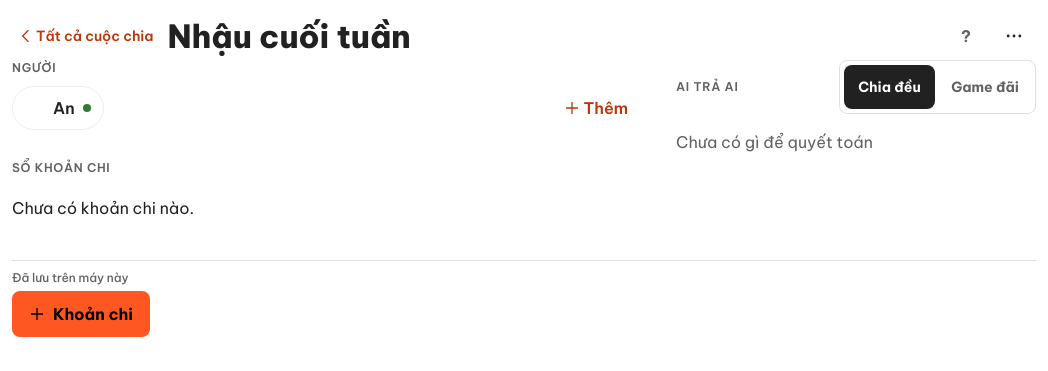
Pha 1+2 — nhánh Game đãi là điểm mở game DUY NHẤT › phiên 1 người: chọn Game đãi hiện lý do «Cần ít nhất 2 thành viên» ngay tại nhánh
The width and height of the screenshot is (1048, 371).
Click the radio button labelled "Game đãi".
click(985, 87)  # box [939, 65, 1031, 109]
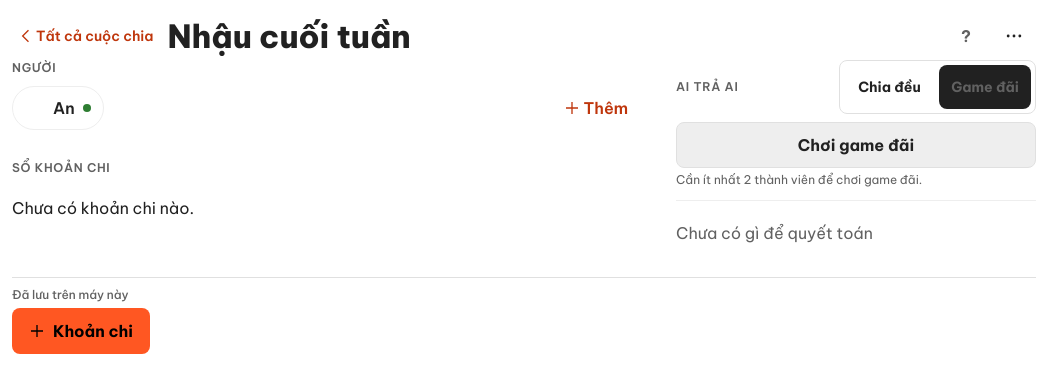
Now the text "Cần ít nhất 2 thành viên để chơi game đãi." is shown, box [676, 172, 922, 187]
